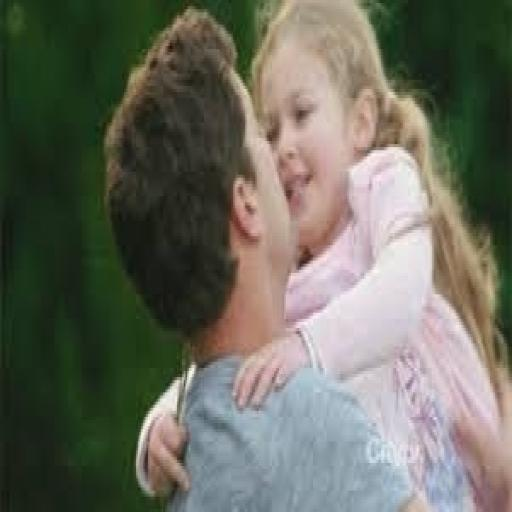hugging: (100, 3, 510, 509)
